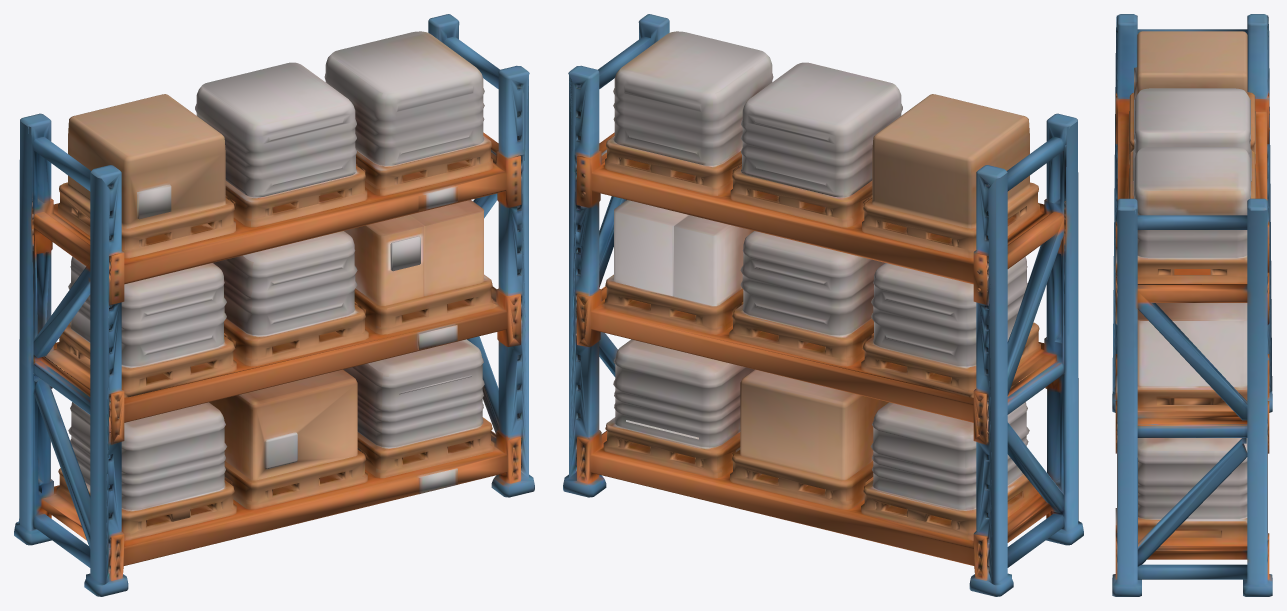
The model's file is warehouse_shelf_b7b87618_v3.glb.
The picture shows the model from 3 angles, left to right: view 1: azimuth 30°, elevation 25°; view 2: azimuth 150°, elevation 25°; view 3: azimuth 270°, elevation 25°; orthographic projection. The views are drawn at different scales.
Visible parts, largest first — view 1: material; view 2: material; view 3: material.
Part boxes in pixels (x1,y1,x2,y2): material: (14,14,534,596); material: (563,14,1083,596); material: (1112,14,1272,596).
Bounding box in the file's own units: 1.9 × 1.73 × 0.6503.
1 material, 1 textured.
